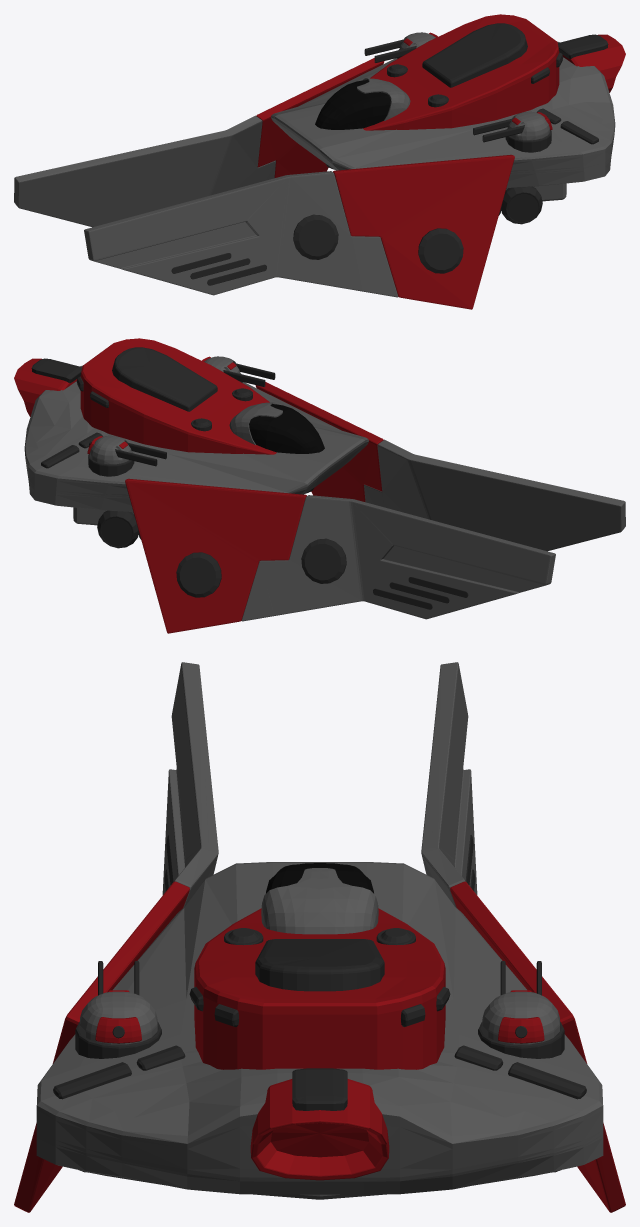
Rendered from fga_corvette5_r.glb.
3 views of the same model, one above another, from view 1: azimuth 30°, elevation 25°; view 2: azimuth 150°, elevation 25°; view 3: azimuth 270°, elevation 25° (orthographic). The views are drawn at different scales.
Parts seen in each view (by area): view 1: Corvette_05; view 2: Corvette_05; view 3: Corvette_05.
Part boxes in pixels (bbox=[...]): Corvette_05: bbox=[14, 14, 625, 309]; Corvette_05: bbox=[14, 338, 625, 633]; Corvette_05: bbox=[14, 662, 625, 1212].
Bounding box in the file's own units: 2729 × 888 × 1379.
Materials: 1 (1 with a texture image).
